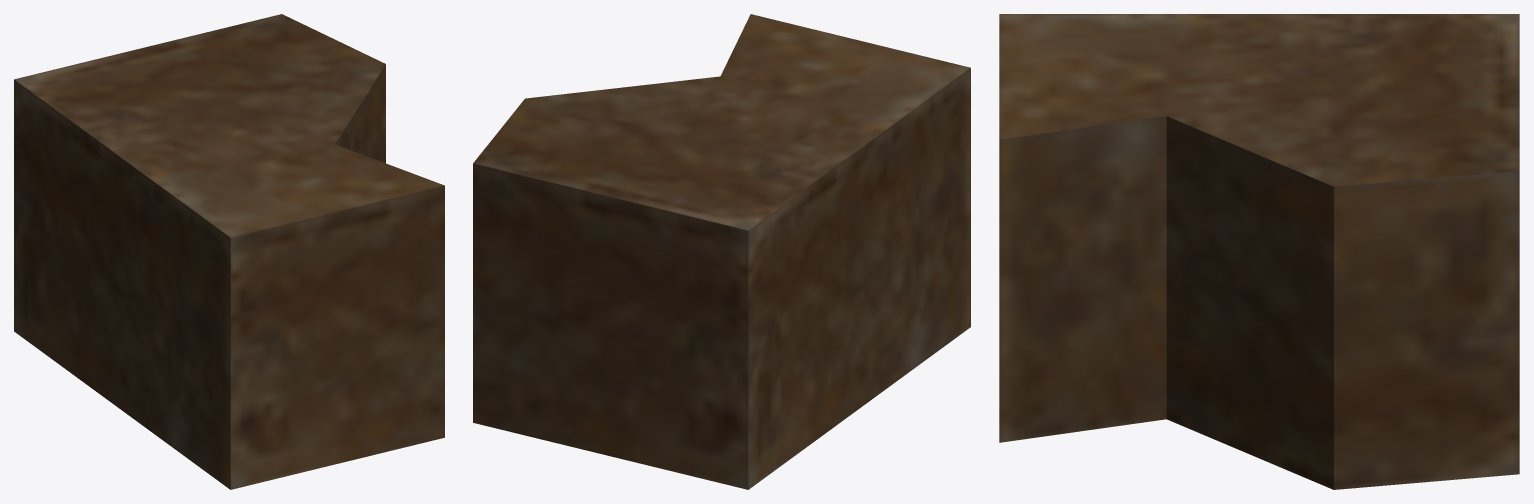
Rendered from brick_mx_1_3.obj.
3 views of the same model, side by side, from view 1: azimuth 30°, elevation 25°; view 2: azimuth 150°, elevation 25°; view 3: azimuth 270°, elevation 25° (orthographic). The views are drawn at different scales.
Visible parts, largest first — view 1: brick_mx_1_3; view 2: brick_mx_1_3; view 3: brick_mx_1_3.
Part boxes in pixels (box(x1,y1,x2,y2)): brick_mx_1_3: box(14, 14, 444, 489); brick_mx_1_3: box(473, 14, 970, 489); brick_mx_1_3: box(999, 14, 1519, 489).
Size of the model in its own units: 0.11 by 0.09 by 0.14.
